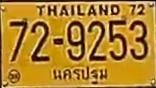2: (30, 20, 48, 60), (88, 20, 106, 60)
3: (129, 19, 147, 59)
5: (108, 19, 126, 60)
7: (9, 20, 28, 61)
9: (67, 20, 84, 60)
NPT: (50, 66, 109, 86)
